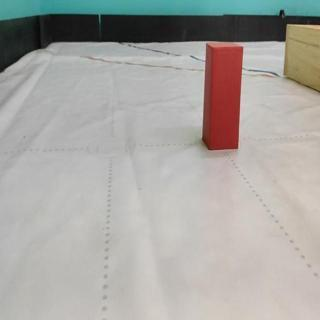redbox: (201, 41, 244, 152)
